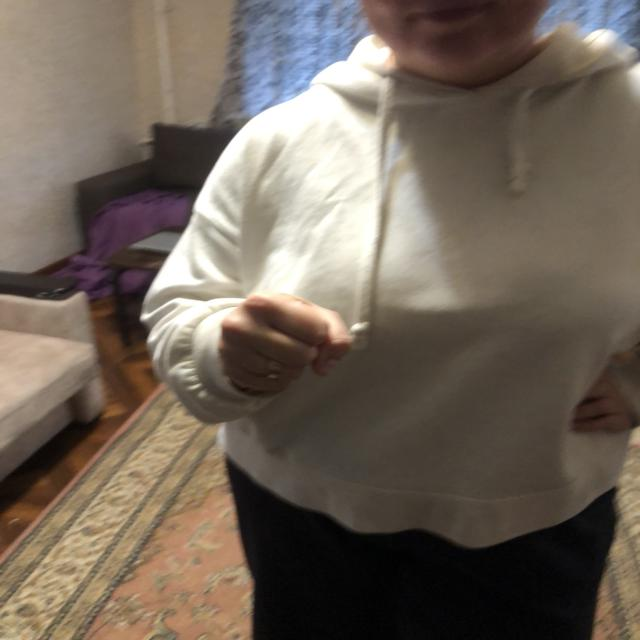rock: (219, 297, 350, 391)
